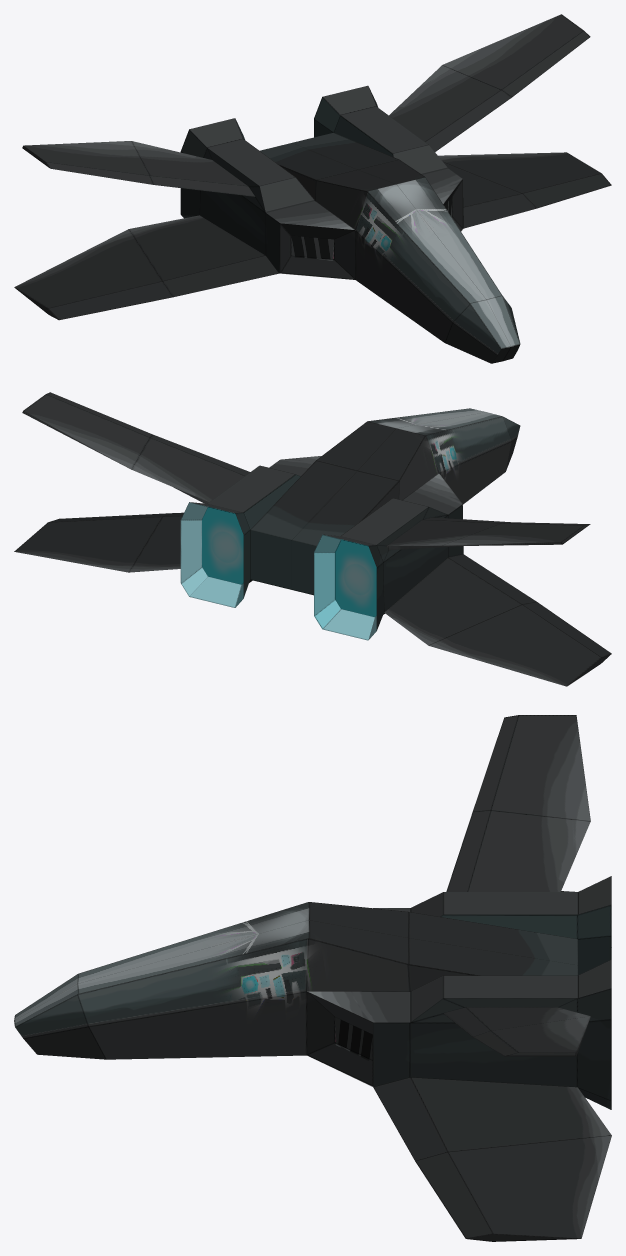
Rendered from DevShip.glb.
3 renders of one model, top to bottom at view 1: azimuth 30°, elevation 25°; view 2: azimuth 150°, elevation 25°; view 3: azimuth 270°, elevation 25°, orthographic. The views are drawn at different scales.
Visible parts, largest first — view 1: Cube; view 2: Cube; view 3: Cube.
Part boxes in pixels (<box>): Cube: <box>14,14,611,363</box>; Cube: <box>14,392,611,686</box>; Cube: <box>14,715,611,1241</box>.
Bounding box in the file's own units: 6.07 × 1.51 × 4.42.
3 materials, 1 textured.
